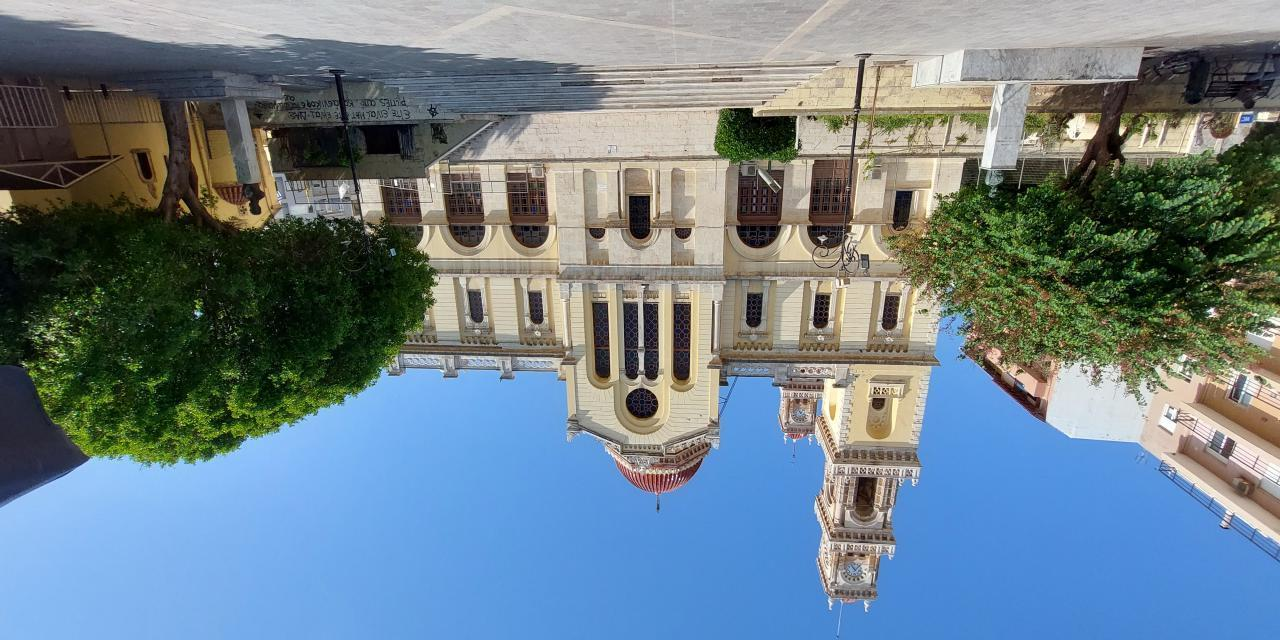Agios Minas: (356, 167, 969, 640)
